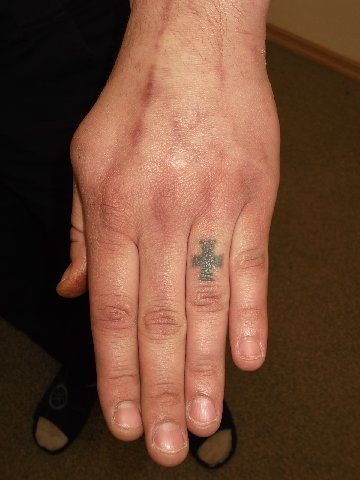tatu9_krest: (191, 232, 226, 284)
